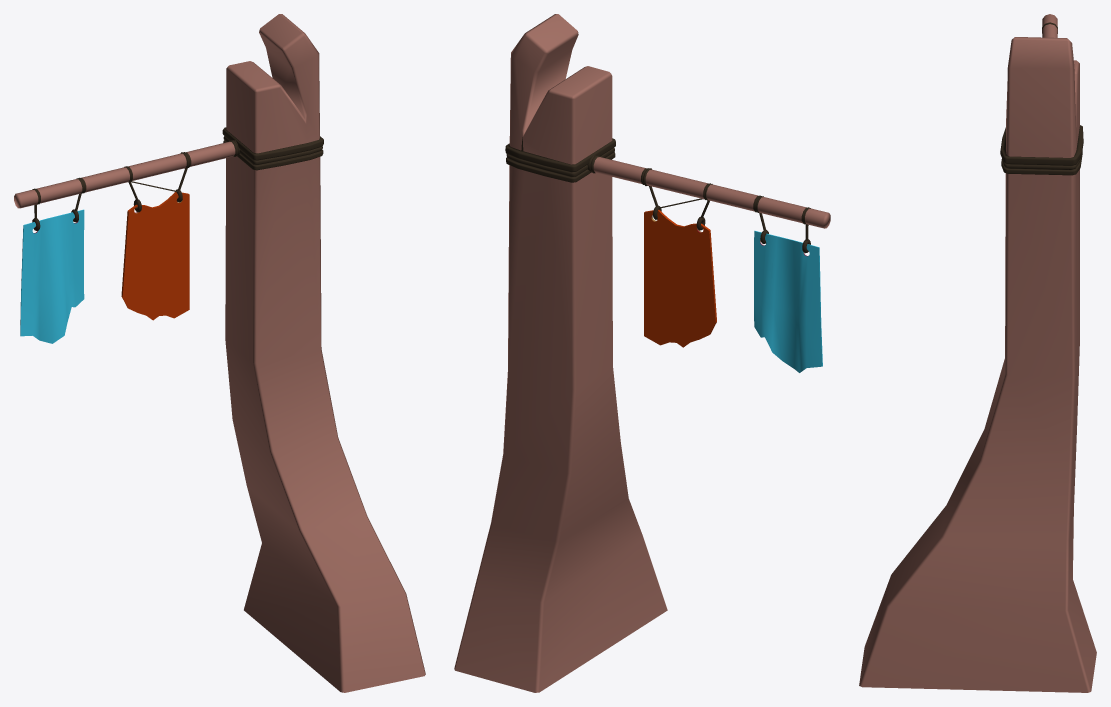
Rendered from SM_colonna-teli2.fbx.
The picture shows the model from 3 angles, left to right: view 1: azimuth 30°, elevation 25°; view 2: azimuth 150°, elevation 25°; view 3: azimuth 270°, elevation 25°; orthographic projection. The views are drawn at different scales.
Visible parts, largest first — view 1: polySurface69; view 2: polySurface69; view 3: polySurface69.
Boxes of the visible parts, x1,y1,x2,y2 form: polySurface69: [14, 14, 425, 692]; polySurface69: [454, 14, 830, 692]; polySurface69: [859, 14, 1096, 692].
Bounding box in the file's own units: 393 × 683 × 236.
